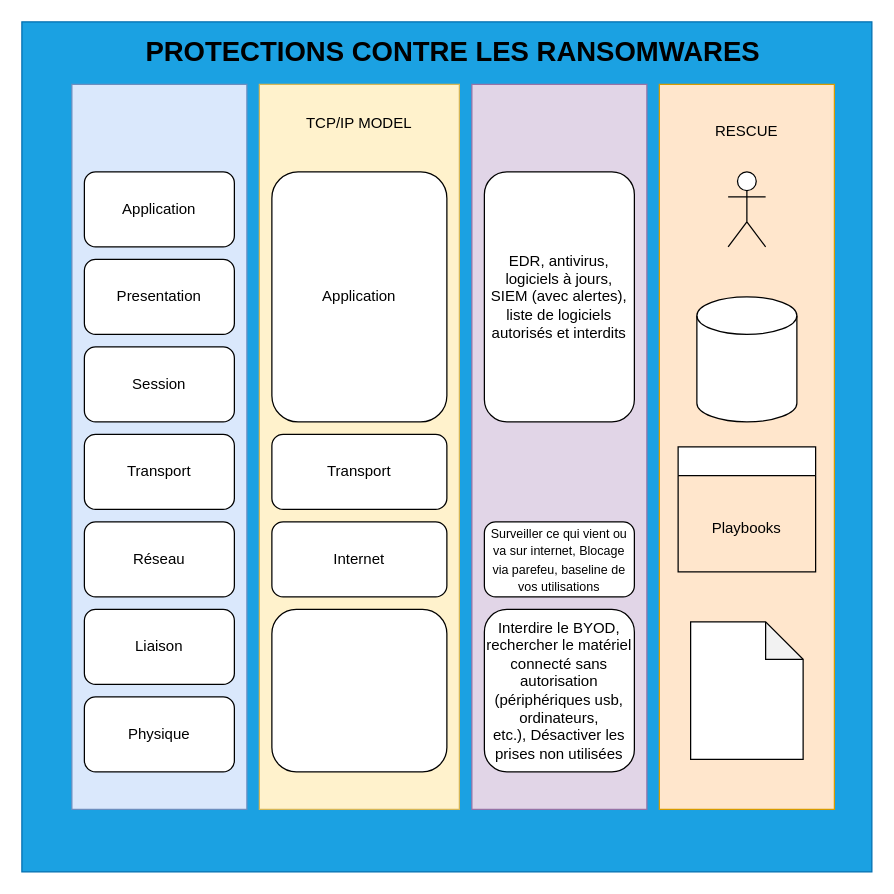
The diagram is 894 pixels wide and 894 high, and some of its shapes have lost their labels. The shapes that lost their labels are listed below. From the top down, each one's box as (x1, y1, x2, y2) in pixels, then its label:
(727, 171, 766, 247): personnels sensibilisés
(696, 296, 797, 422): Sauvegardes
(71, 83, 247, 809): ISO MODEL
(471, 83, 647, 809): PROTECTION
(677, 446, 816, 572): SOAR
(271, 608, 447, 772): Hôte-réseau
(689, 621, 803, 759): procédures de réponse à incident
